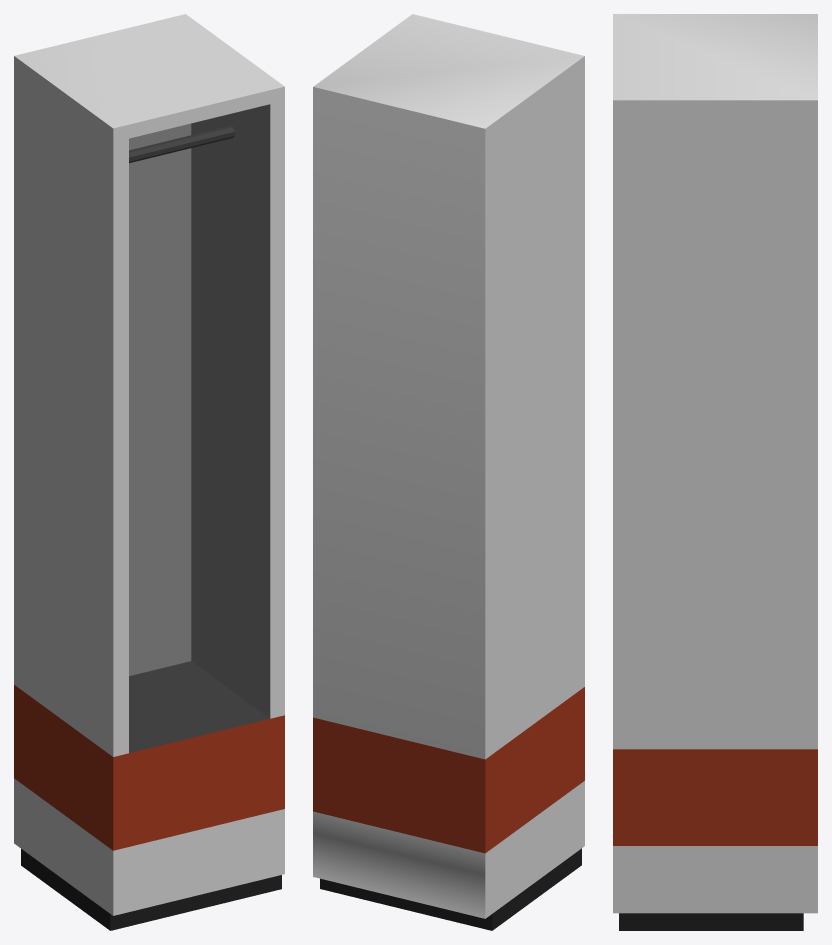
The model's file is Drawer_2.fbx.
The picture shows the model from 3 angles, left to right: view 1: azimuth 30°, elevation 25°; view 2: azimuth 150°, elevation 25°; view 3: azimuth 270°, elevation 25°; orthographic projection. The views are drawn at different scales.
Parts seen in each view (by area): view 1: Drawer_2; view 2: Drawer_2; view 3: Drawer_2.
Part boxes in pixels (box(x1,y1,x2,y2)): Drawer_2: box(14, 14, 284, 930); Drawer_2: box(313, 14, 584, 930); Drawer_2: box(613, 14, 817, 930).
Size of the model in its own units: 40.61 by 182 by 40.63.
